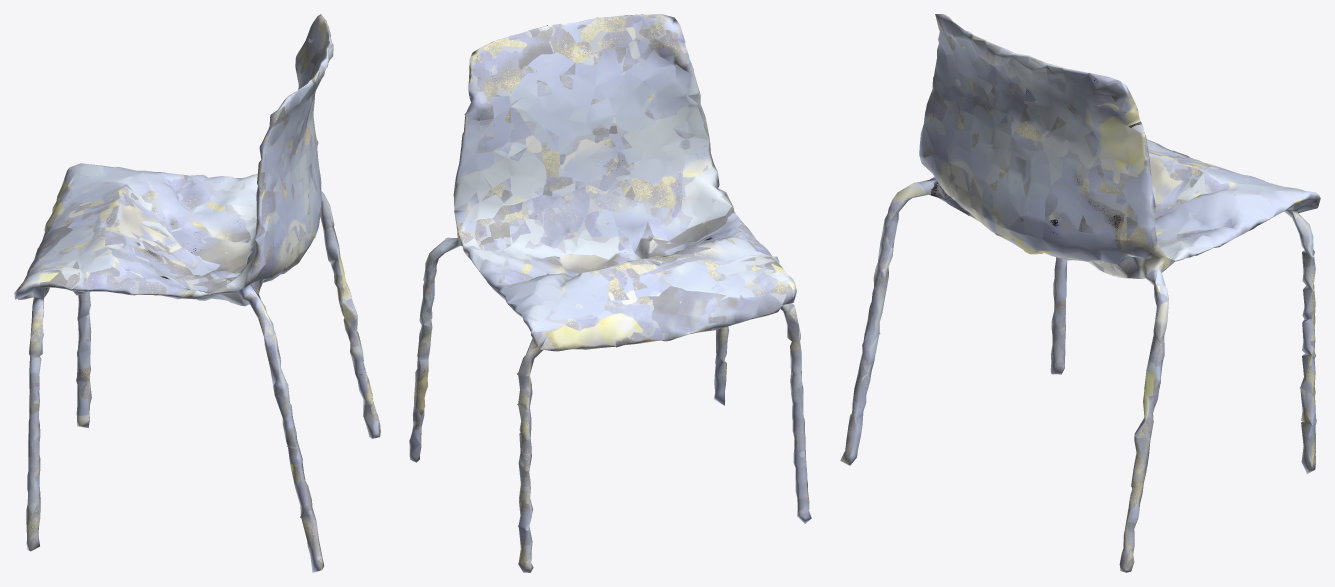
3 views of the same model, side by side, from view 1: azimuth 30°, elevation 25°; view 2: azimuth 150°, elevation 25°; view 3: azimuth 270°, elevation 25° (orthographic). The views are drawn at different scales.
Visible parts, largest first — view 1: pMesh1; view 2: pMesh1; view 3: pMesh1.
Boxes of the visible parts, box(x1,y1,x2,y2) form: pMesh1: box(14, 14, 380, 572); pMesh1: box(409, 14, 811, 572); pMesh1: box(840, 14, 1320, 572).
Bounding box in the file's own units: 1.83 × 2.04 × 1.87.
1 material, 1 textured.
